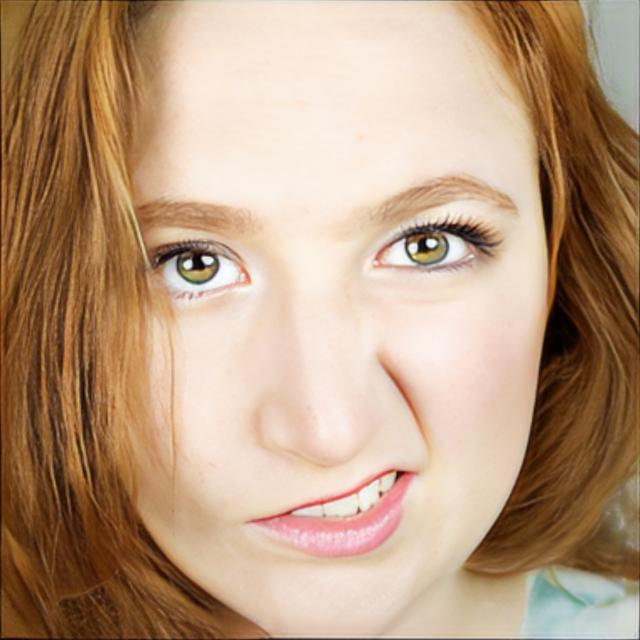disgust: (116, 1, 554, 640)
